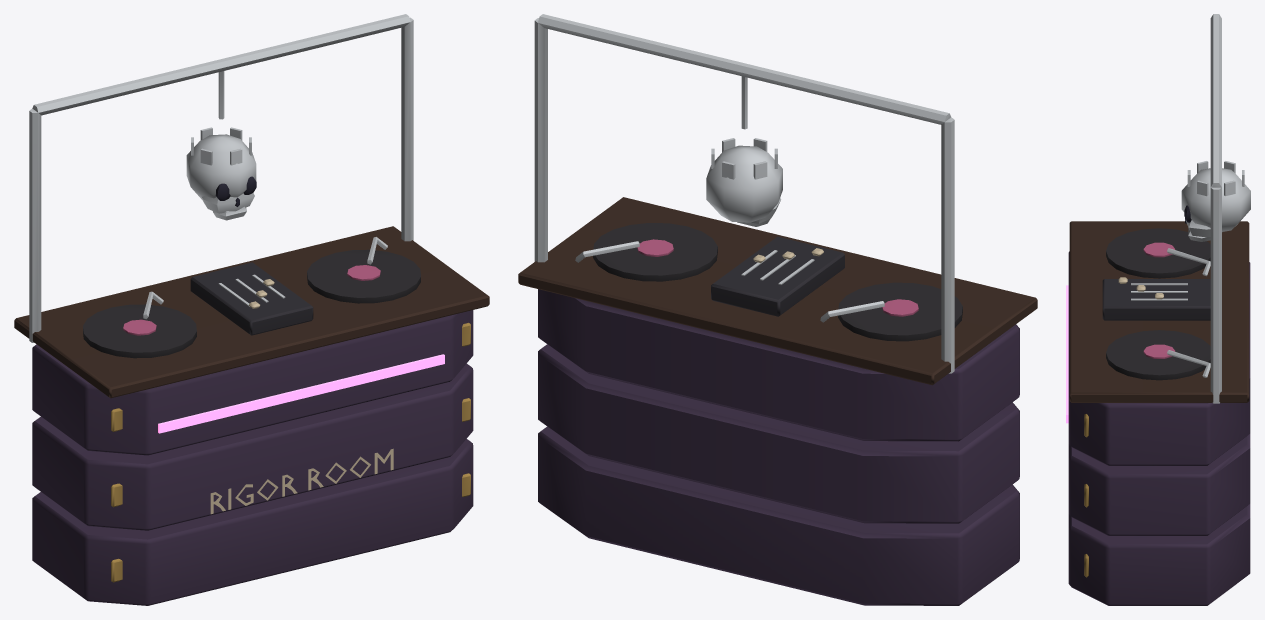
The model's file is booth_dj.glb.
3 renders of one model, left to right at view 1: azimuth 30°, elevation 25°; view 2: azimuth 150°, elevation 25°; view 3: azimuth 270°, elevation 25°, orthographic. The views are drawn at different scales.
Visible parts, largest first — view 1: booth_dj, platter_L, platter_R, glow; view 2: booth_dj, platter_R, platter_L; view 3: booth_dj, platter_R, platter_L, glow.
Boxes of the visible parts, bbox=[...] form: booth_dj: bbox=[14, 14, 489, 605]; platter_L: bbox=[83, 304, 196, 358]; platter_R: bbox=[307, 249, 420, 303]; glow: bbox=[158, 354, 444, 433]; booth_dj: bbox=[518, 14, 1037, 605]; platter_R: bbox=[593, 223, 717, 281]; platter_L: bbox=[838, 282, 962, 341]; booth_dj: bbox=[1068, 14, 1250, 605]; platter_R: bbox=[1106, 330, 1210, 380]; platter_L: bbox=[1106, 228, 1210, 278]; glow: bbox=[1066, 285, 1068, 423].
Bounding box in the file's own units: 1.84 × 2.04 × 0.8138.
